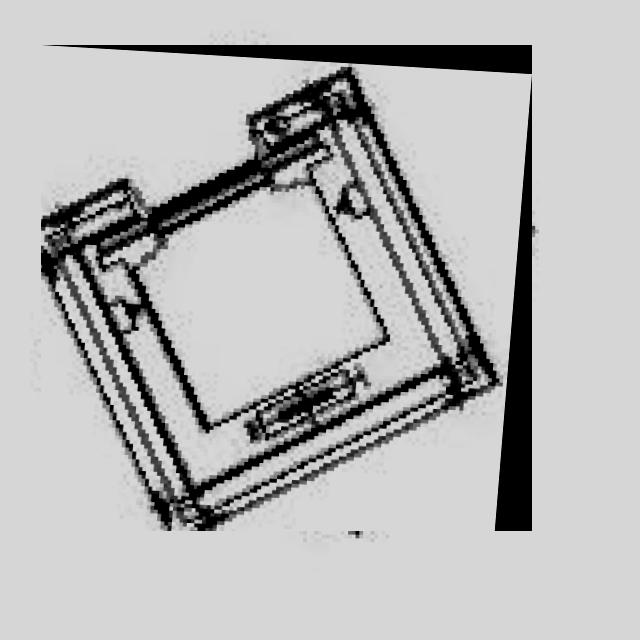lift: (41, 45, 532, 531)
